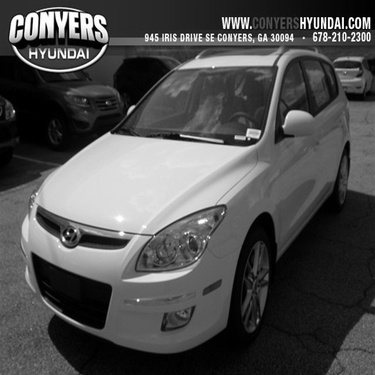car: (11, 37, 353, 364), (49, 63, 126, 129), (296, 56, 373, 110), (109, 57, 191, 104), (1, 109, 21, 162)
